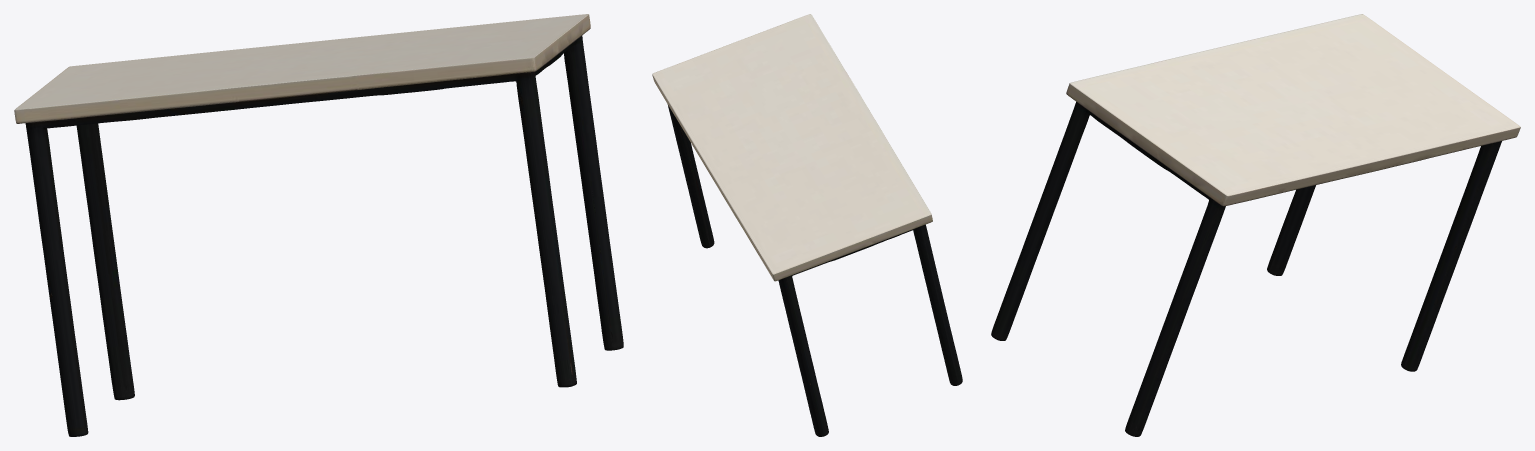
File: light-colored_wooden_table_in_back_row_(right)_000.glb
The picture shows the model from 3 angles, left to right: view 1: azimuth 30°, elevation 25°; view 2: azimuth 150°, elevation 25°; view 3: azimuth 270°, elevation 25°; orthographic projection. The views are drawn at different scales.
Visible parts, largest first — view 1: light-colored_wooden_table_in_back_row_(right)_000.obj; view 2: light-colored_wooden_table_in_back_row_(right)_000.obj; view 3: light-colored_wooden_table_in_back_row_(right)_000.obj.
Part boxes in pixels (box(x1,y1,x2,y2)): light-colored_wooden_table_in_back_row_(right)_000.obj: box(14, 14, 623, 436); light-colored_wooden_table_in_back_row_(right)_000.obj: box(652, 14, 962, 436); light-colored_wooden_table_in_back_row_(right)_000.obj: box(991, 14, 1520, 436).
Size of the model in its own units: 0.6772 by 0.5667 by 0.7224.
1 material, 1 textured.
